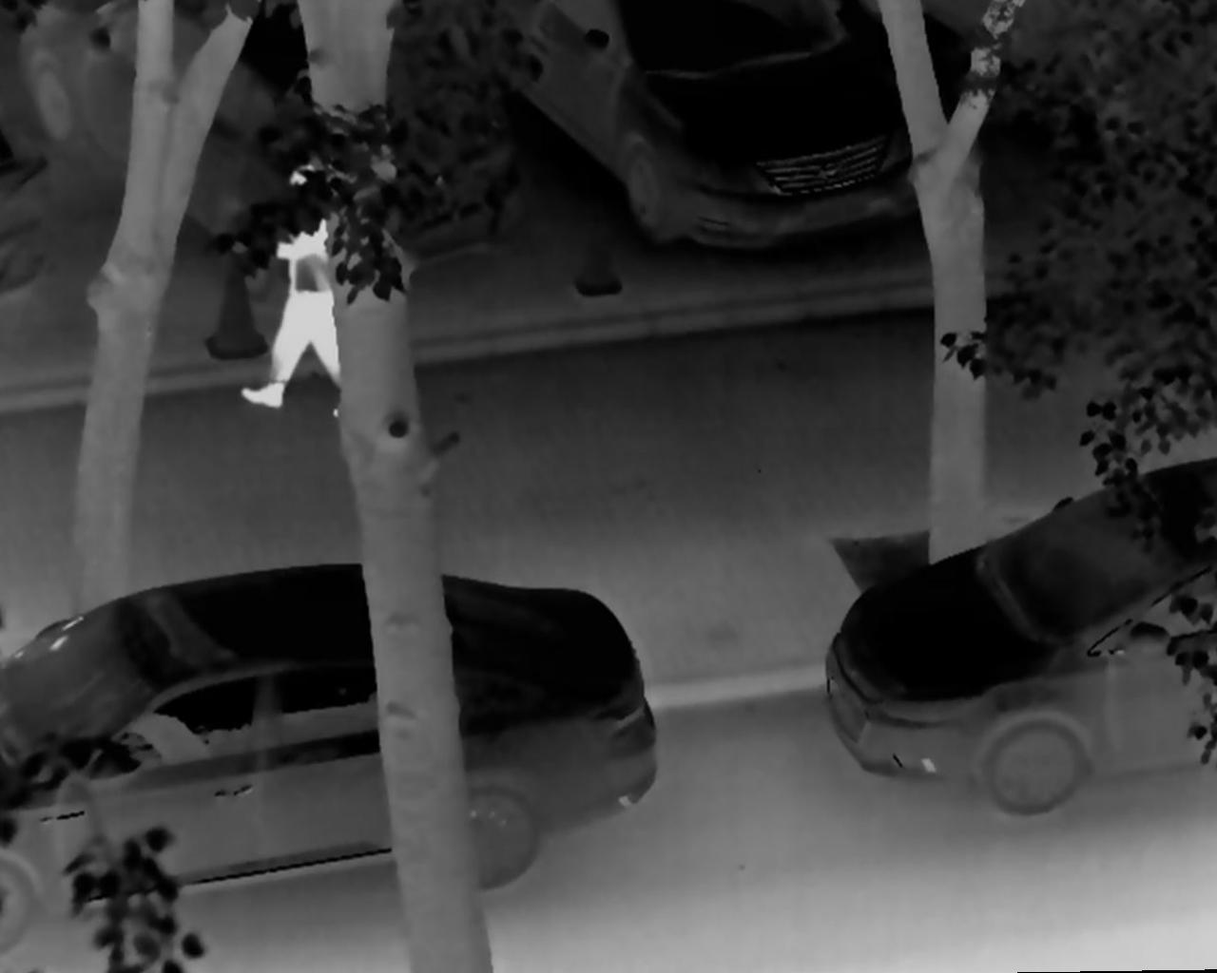person: (240, 154, 346, 421)
